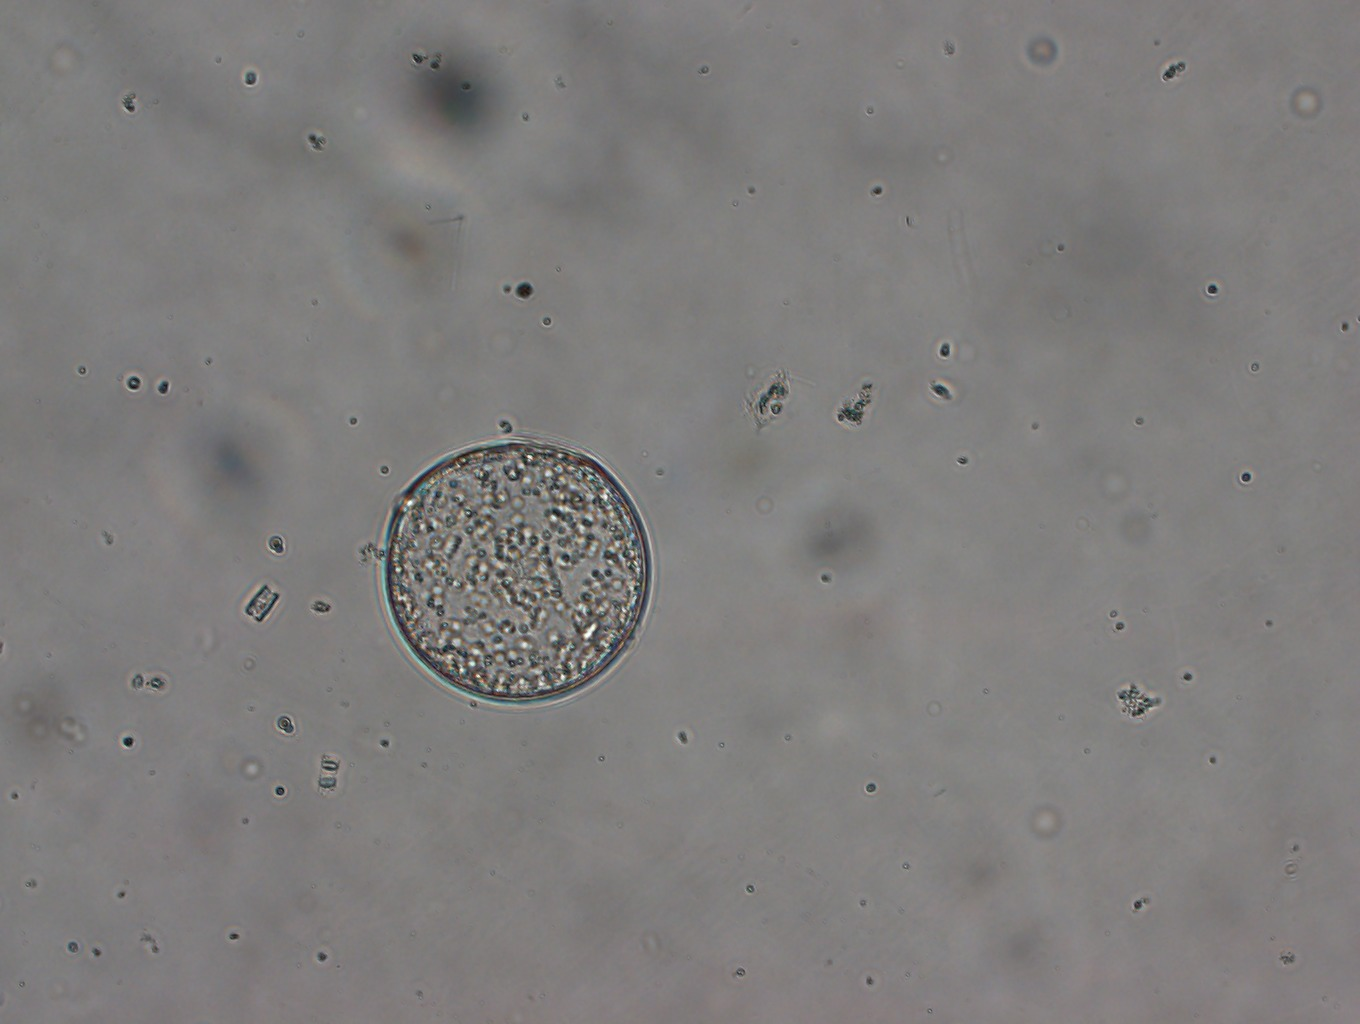coscinodiscus: (378, 431, 658, 709)
